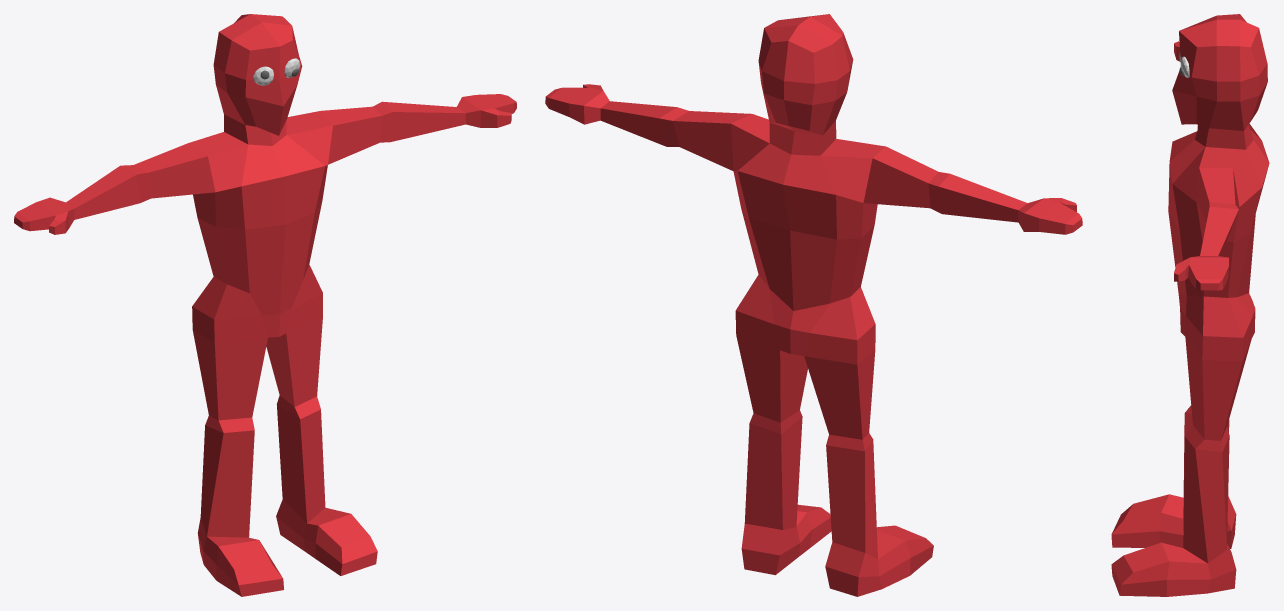
File: Player.fbx
3 views of the same model, side by side, from view 1: azimuth 30°, elevation 25°; view 2: azimuth 150°, elevation 25°; view 3: azimuth 270°, elevation 25° (orthographic). The views are drawn at different scales.
Parts seen in each view (by area): view 1: Icosphere.002; view 2: Icosphere.002; view 3: Icosphere.002.
Part boxes in pixels (x1=…): Icosphere.002: x1=14, y1=14, x2=516, y2=596; Icosphere.002: x1=545, y1=14, x2=1082, y2=596; Icosphere.002: x1=1111, y1=14, x2=1269, y2=596.
Size of the model in its own units: 1352 by 1369 by 362.
